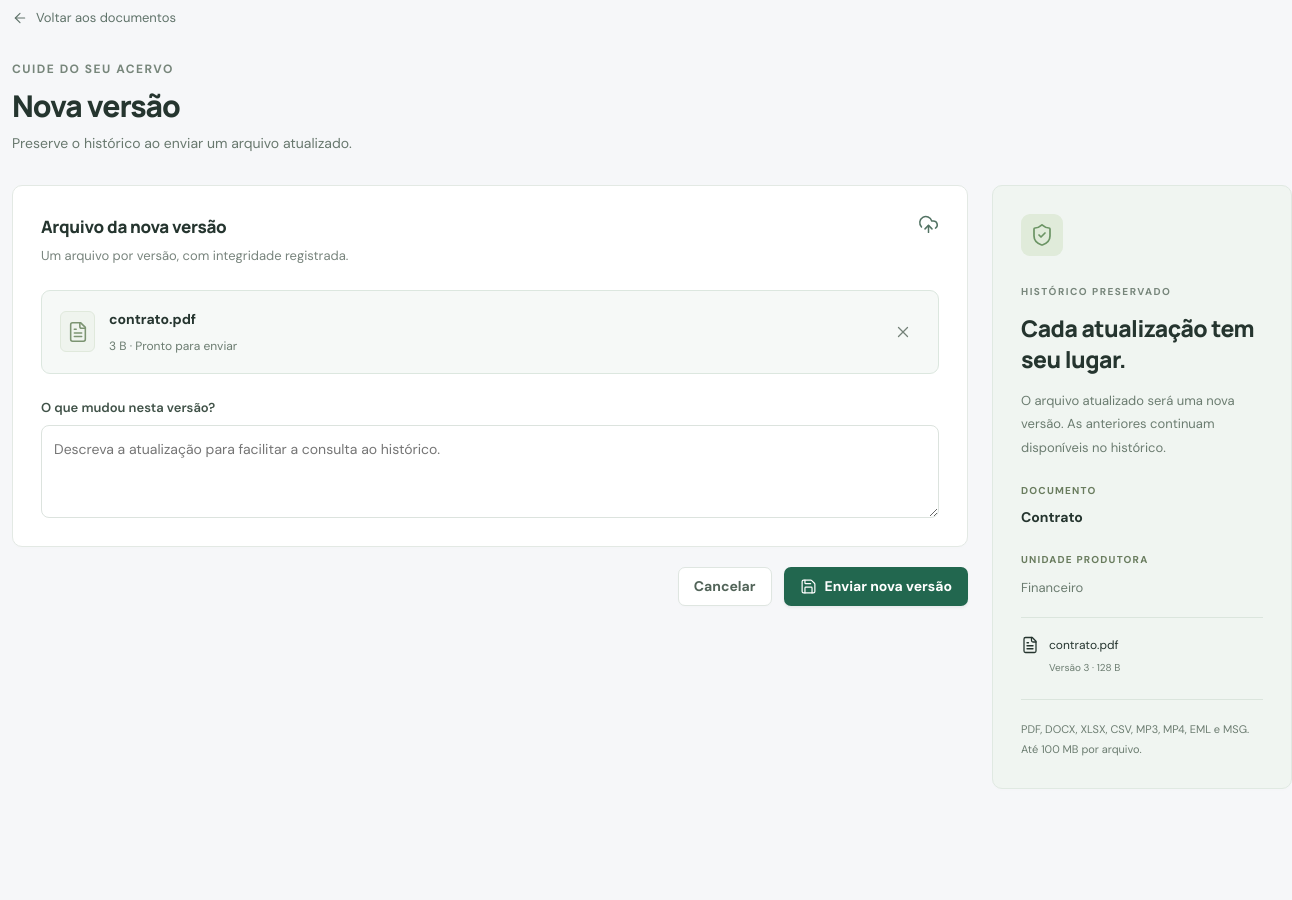
Test case: cadastro e manutenção de documentos › envia nova versão sem reenviar metadados e usa a numeração do servidor
Replace the text in the text box with id "change-note" with "Correção" at (490, 472), box [41,425,939,518]
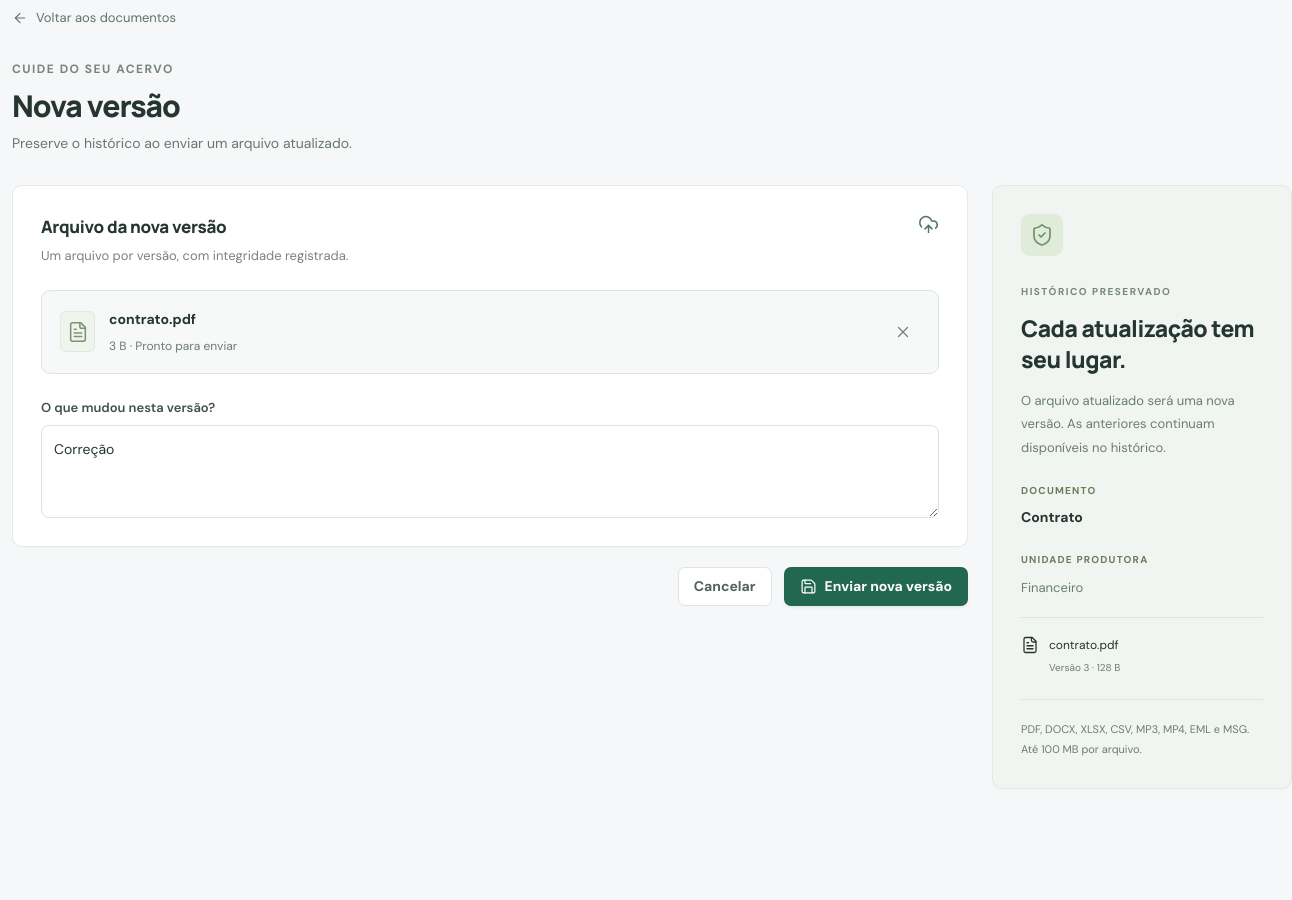
Submit the form
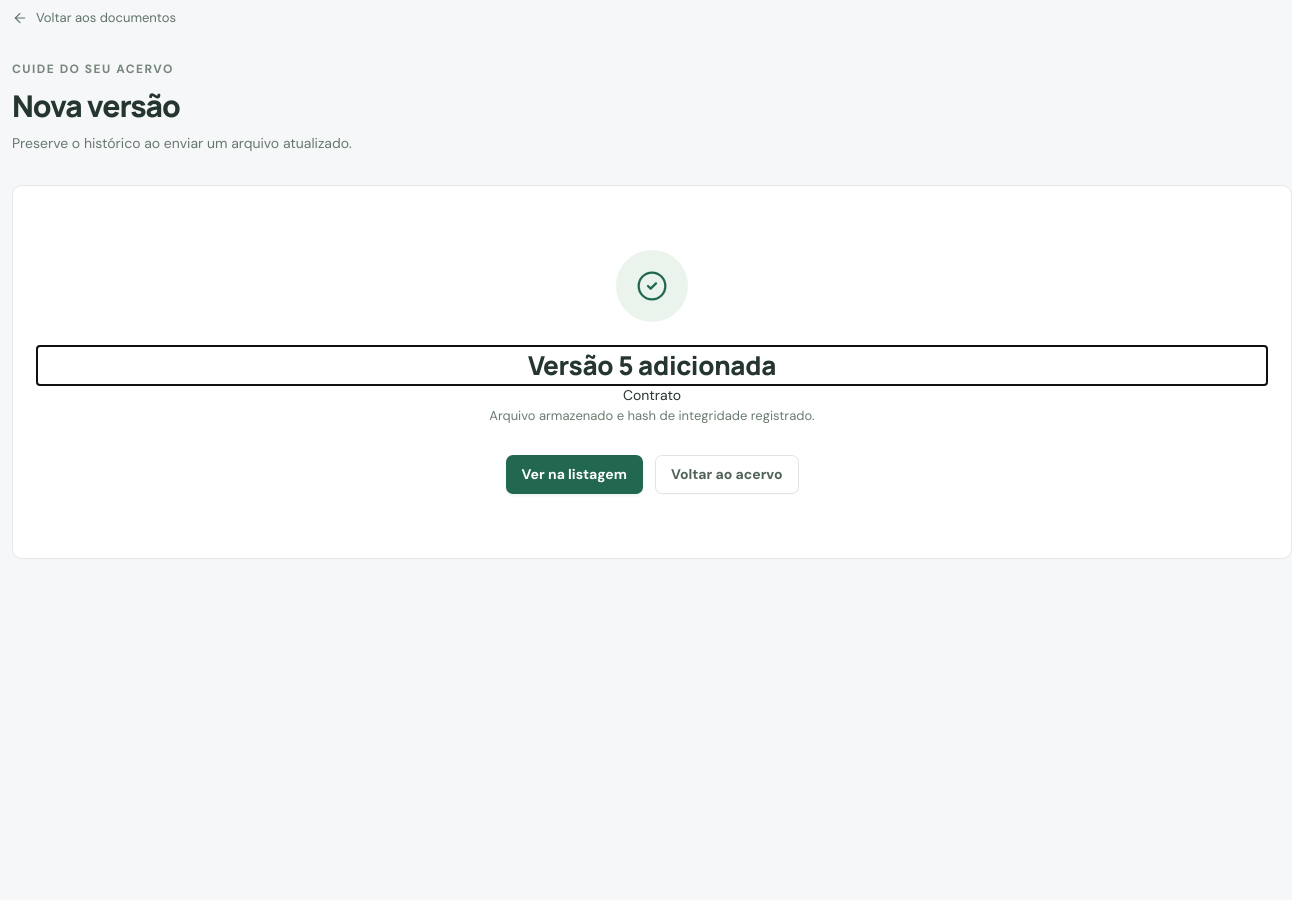
Check: the text "Versão 5 adicionada" is shown, box [528,347,776,383]
